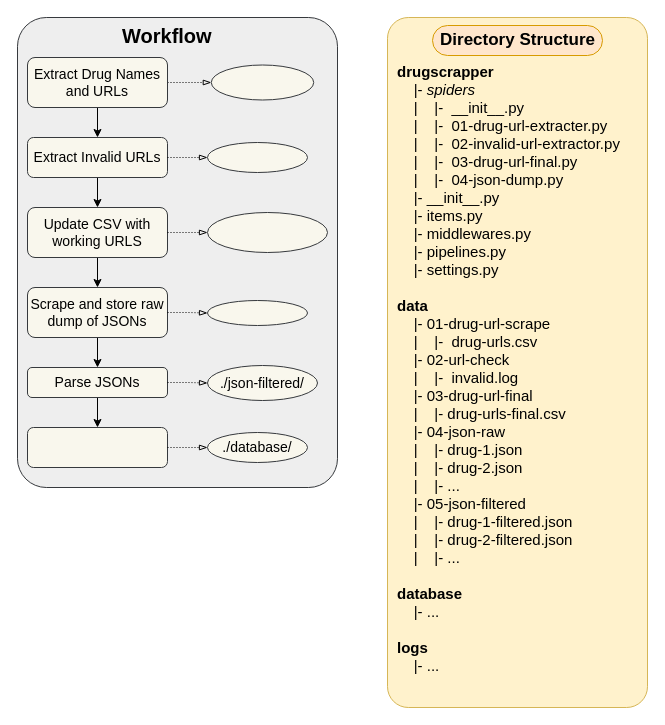
Some shapes in this 665 by 725 pixel diagram are drawn without their labels. The shapes that lost their labels are listed below. From the top down, each one's box as (x1, y1, x2, y2) in pixels, then its label:
(210, 64, 314, 100): drug-urls.json
(206, 142, 308, 172): invalid.log
(206, 212, 328, 252): drug-urls-final.csv
(206, 300, 308, 326): ./json-raw/
(26, 426, 168, 468): Map to designed database schema
